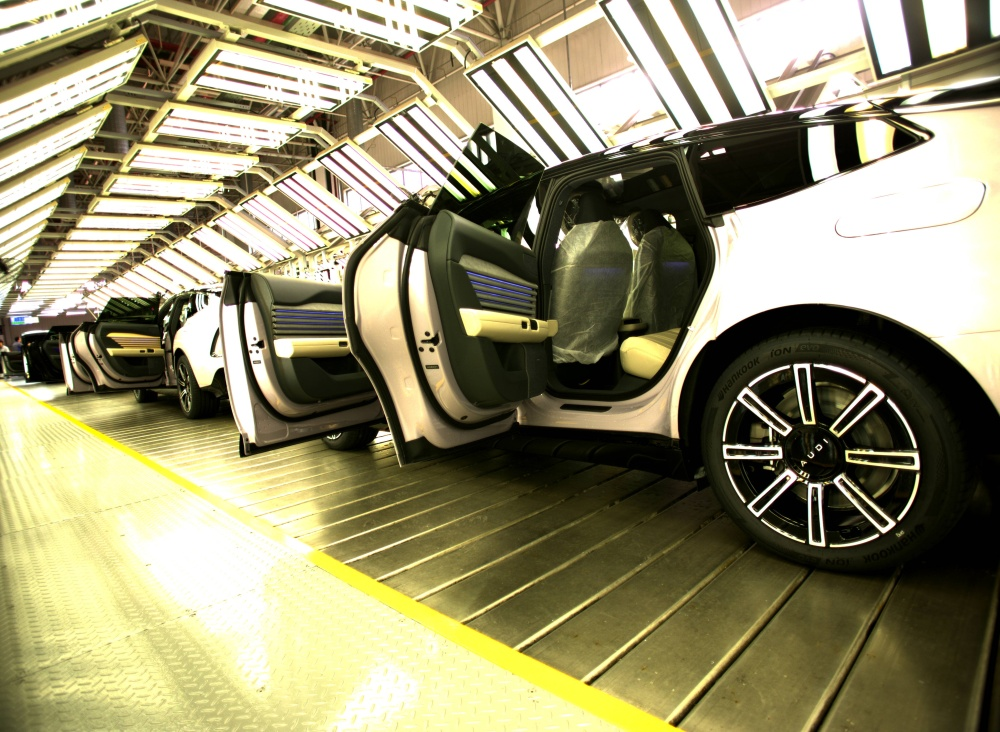armrest_color: (457, 306, 550, 345), (276, 336, 351, 359)
panel_color: (456, 252, 540, 318), (264, 298, 345, 333)
